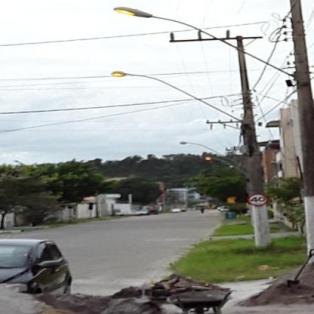Poste: (226, 35, 270, 257), (289, 0, 314, 259)
